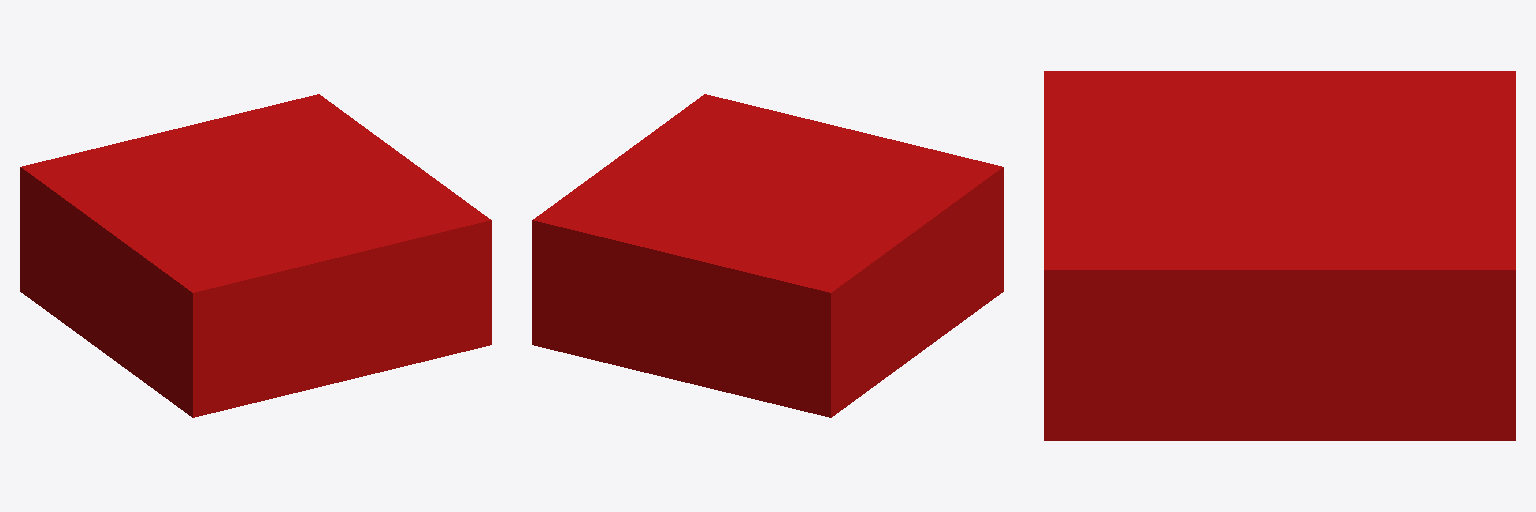
The robot description file, URDF, robot "simple_cuboid":
<?xml version="1.0"?>
<robot name="simple_cuboid">
  <link name="base_link">
    <inertial>
      <origin xyz="0 0 0" rpy="0 0 0" />
      <mass value="0.1" />
      <inertia ixx="0.000363" ixy="0" ixz="0" iyy="0.000363" iyz="0"
          izz="0.00006" />
    </inertial>
    <visual>
      <origin xyz="0 0 0" rpy="0 0 0" />
      <geometry>
        <box size="0.25 0.25 0.1" />
      </geometry>
      <material name="red">
        <color rgba="0.8 0.1 0.1 0.9" />
      </material>
    </visual>

    <!--
      This places contact spheres on the corners of the visual box and a
      *slightly* smaller inset contact box (centered on the visual origin). This
      accounts for issues in the contact computation providing stable table
      contact *and* supports grasping.

      When the box is in stable contact with the ground plane, the corner
      spheres will provide fixed contact points (simulating distributed contact
      points around the face).  However, for arbitrary grip configuration, the
      slightly inset box will provide contact with a *slight* offset (in this
      case a deviation of 0.0005 m from the visual surface).

      https://github.com/RobotLocomotion/drake/issues/6254 tracks the
      difficulty in supporting face-to-face contact.
     -->
    <collision>
      <origin xyz="0 0 0" rpy="0 0 0" />
      <geometry>
        <mesh filename="file://[local-path]/ros_devel_ws/src/learn_affordance_tamp/tamp/examples/pybullet/utils/models/drake/objects/meiying_block_for_pick_and_place_short_huge.obj" />
      </geometry>
    </collision>

   </link>
</robot>

--- Render facts (derived) ---
Views: 3 orthographic renders of the robot side by side, from view 1: azimuth 30°, elevation 25°; view 2: azimuth 150°, elevation 25°; view 3: azimuth 270°, elevation 25°.
Robot: simple_cuboid — 1 links, 0 joints (none); root link base_link; default pose: every joint at zero.
Visible links, largest first — view 1: base_link; view 2: base_link; view 3: base_link.
Boxes of the visible links, x1,y1,x2,y2 form: base_link: (20, 94, 491, 417); base_link: (532, 94, 1003, 417); base_link: (1044, 71, 1515, 440).
Size in the robot's own frame: 0.25 by 0.25 by 0.1 metres.
Geometry: primitives only (box / cylinder / sphere), no mesh files.
